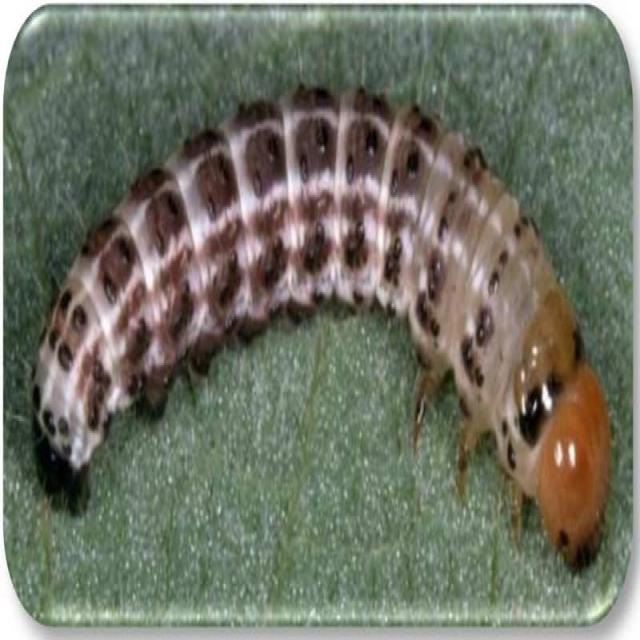cornborer-Larva-: (28, 69, 627, 585)
